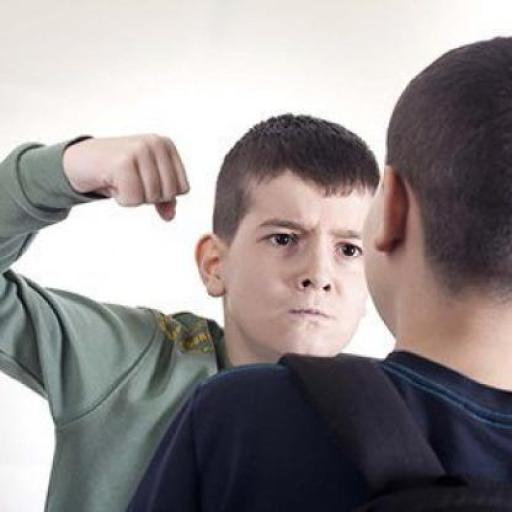Fighting: (0, 39, 511, 511)
